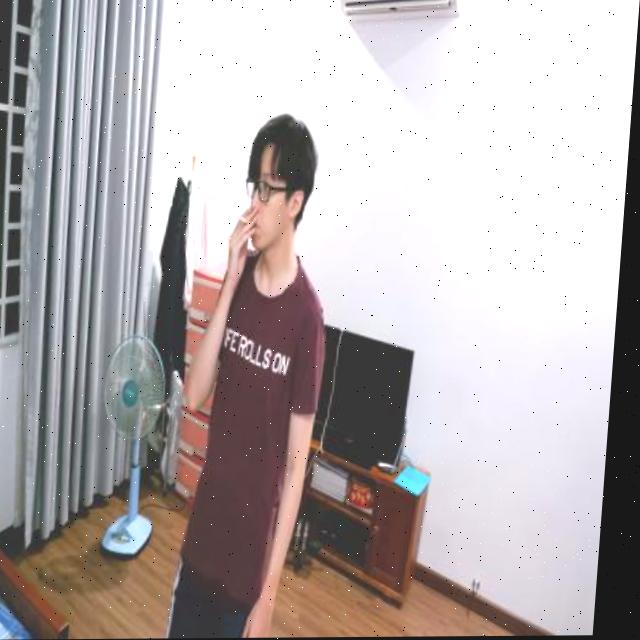cigarette: (237, 213, 254, 226)
